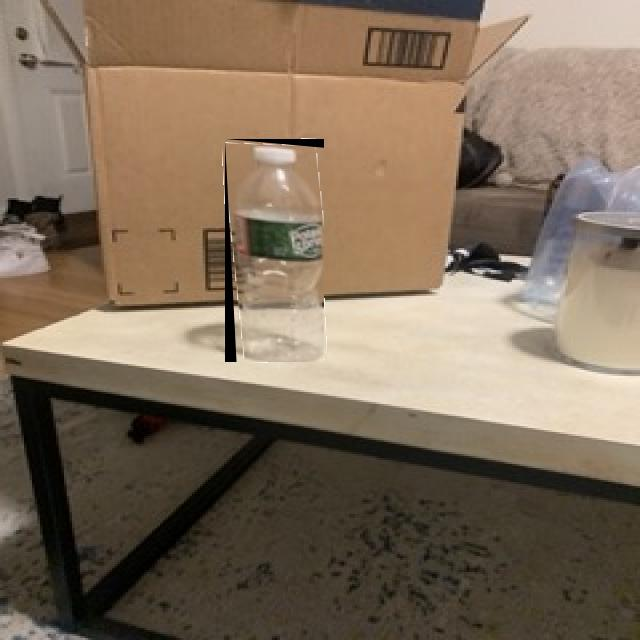water_bottle: (225, 139, 324, 362)
